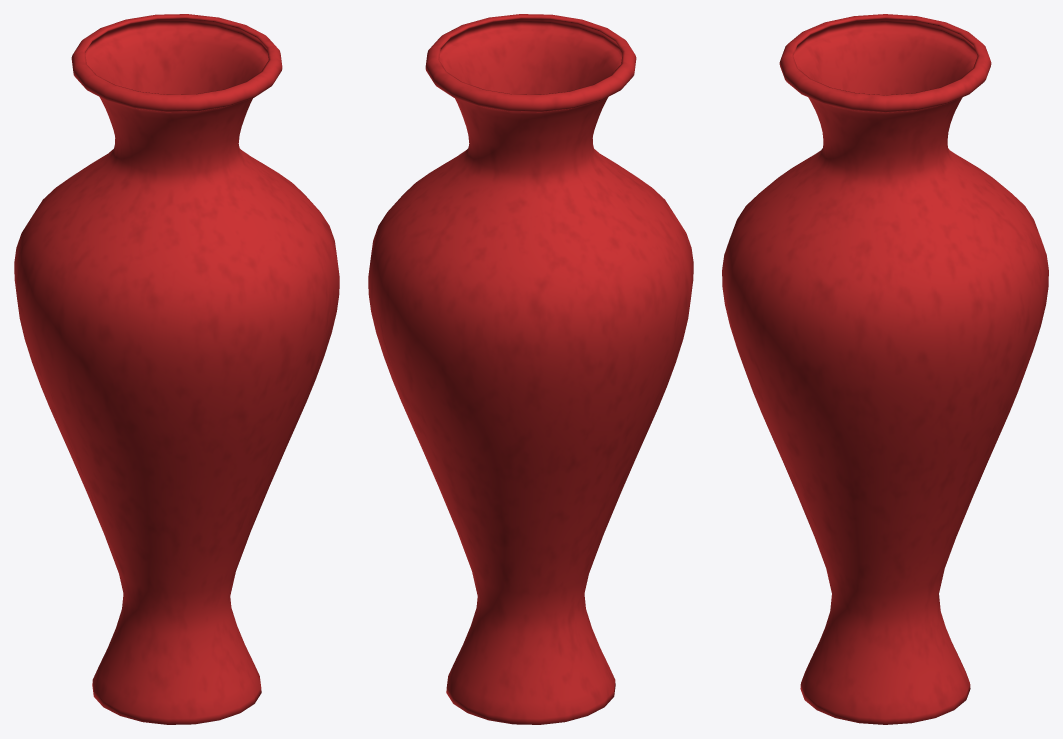
Rendered from Vase_New.fbx.
3 renders of one model, left to right at view 1: azimuth 30°, elevation 25°; view 2: azimuth 150°, elevation 25°; view 3: azimuth 270°, elevation 25°, orthographic.
Visible parts, largest first — view 1: vase; view 2: vase; view 3: vase.
Part boxes in pixels (box(x1,y1,x2,y2)): vase: box(14, 14, 339, 724); vase: box(368, 14, 693, 724); vase: box(722, 14, 1048, 724).
Size of the model in its own units: 491 by 1066 by 490.
